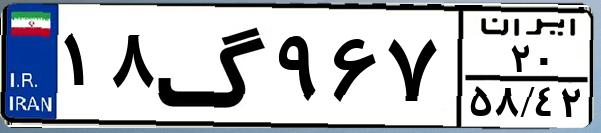0: (537, 27, 568, 80)
1: (57, 26, 110, 100)
2: (560, 70, 590, 125), (508, 27, 537, 80)
4: (535, 70, 560, 125)
5: (470, 70, 495, 125)
6: (330, 28, 385, 110)
7: (385, 28, 445, 110)
8: (110, 28, 156, 98), (495, 70, 520, 125)
9: (270, 28, 330, 110)
گ: (156, 12, 270, 120)
